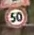limite 50: (4, 5, 27, 29)
